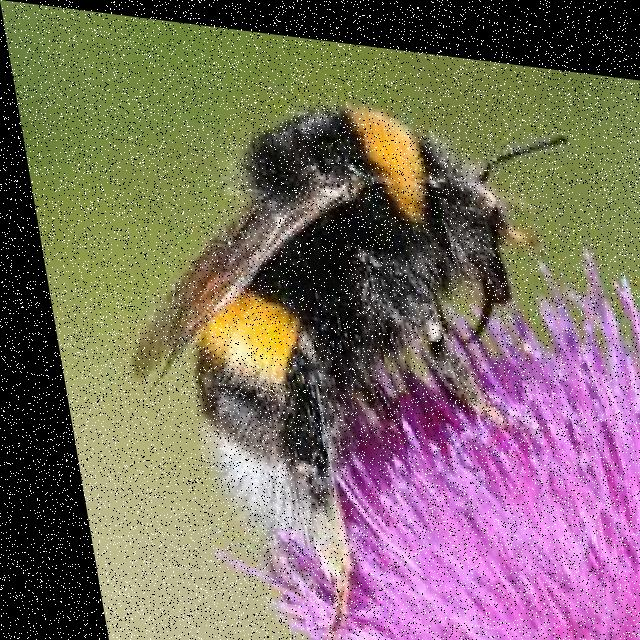Xylocopa: (71, 55, 578, 576)
